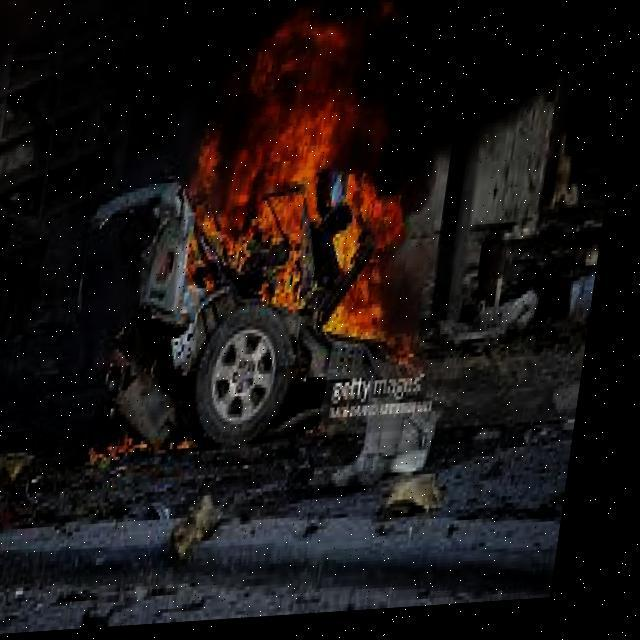Fire: (168, 0, 512, 363), (88, 402, 170, 478)
